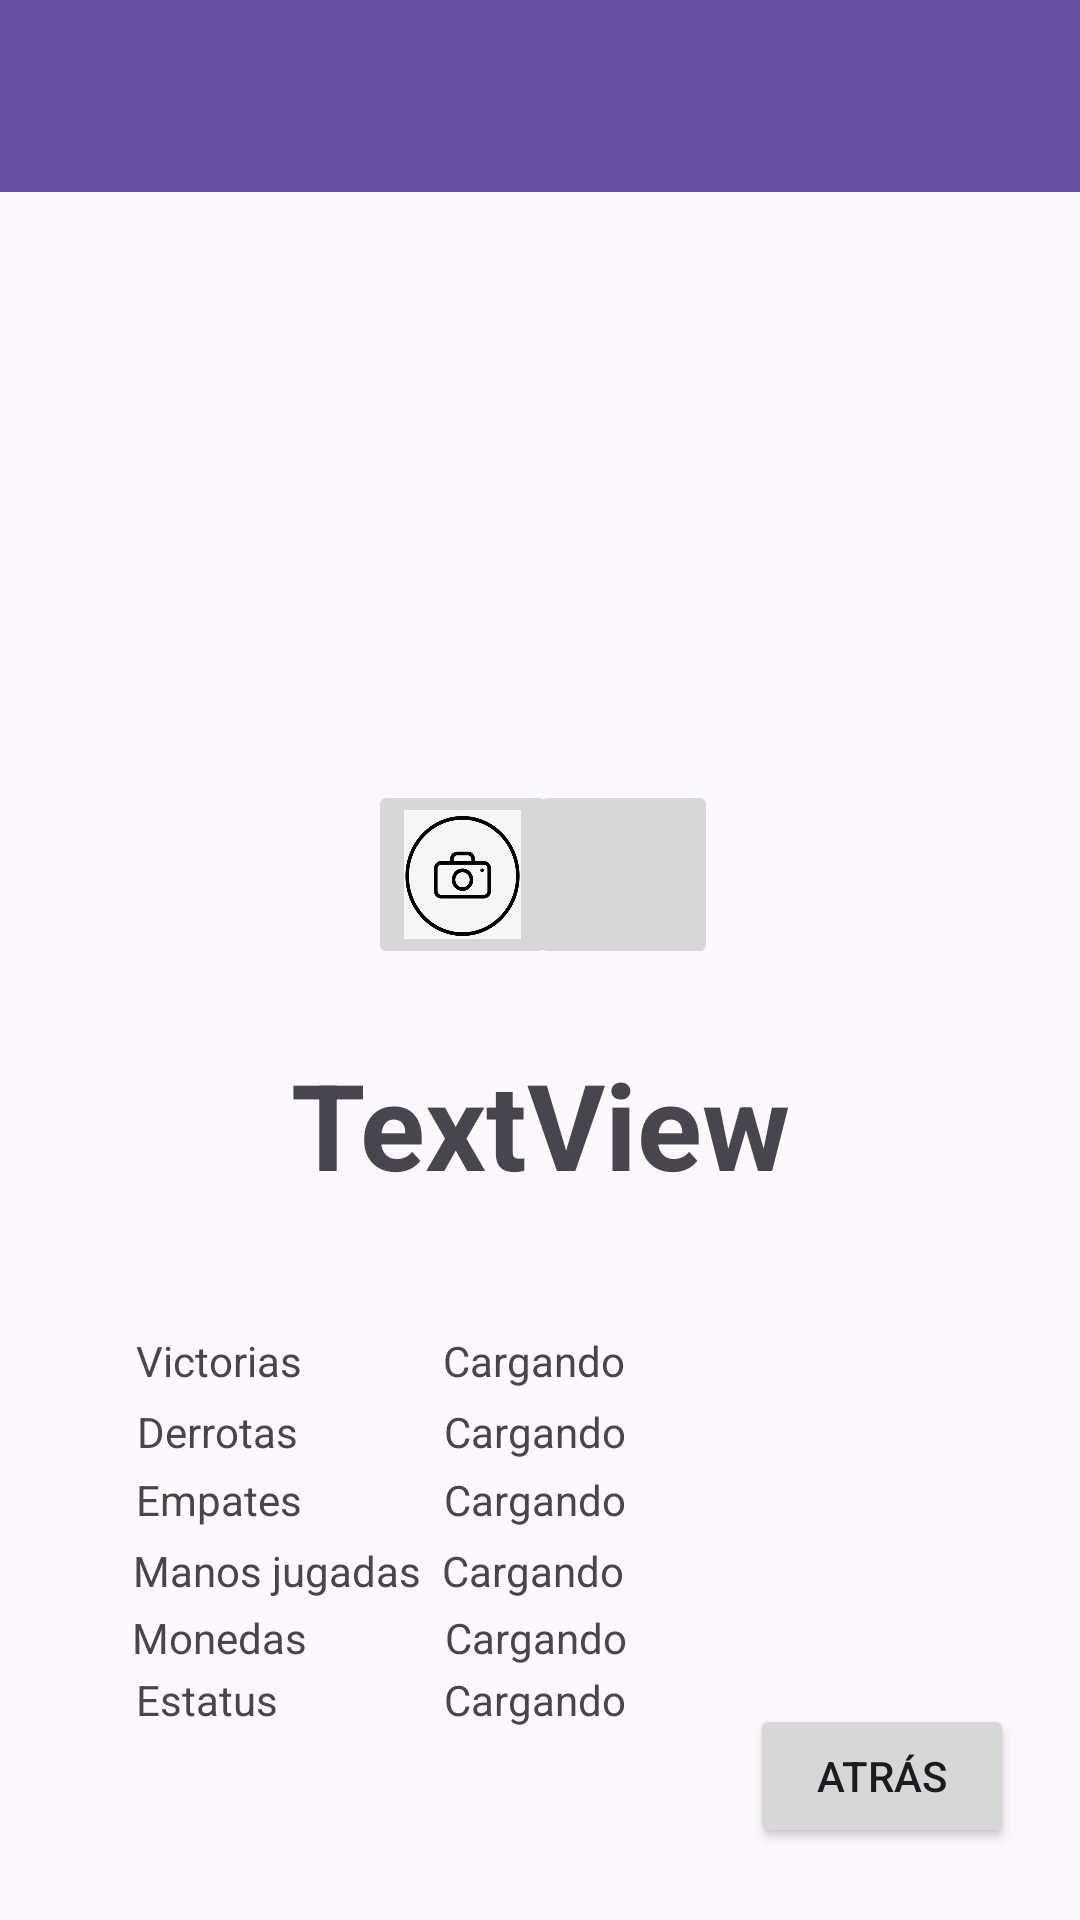

Icon click points for this 1080 x 1920 phone screenshot, format point (x, y):
cameraimg: point (468, 874)
